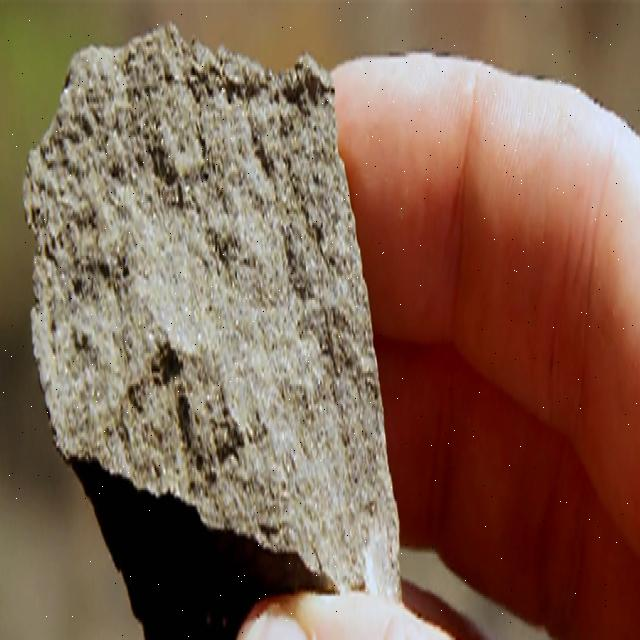Igneous: (16, 1, 422, 602)
